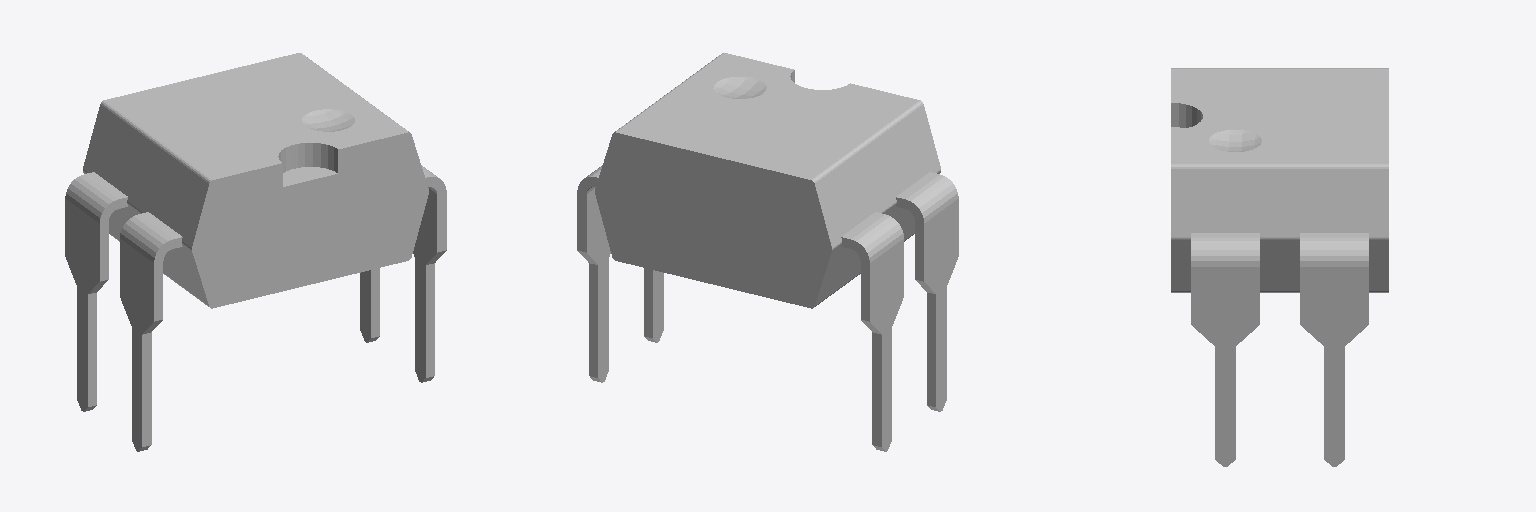
3 renders of one model, left to right at view 1: azimuth 30°, elevation 25°; view 2: azimuth 150°, elevation 25°; view 3: azimuth 270°, elevation 25°, orthographic.
Visible parts, largest first — view 1: Volumenkörper1; view 2: Volumenkörper1; view 3: Volumenkörper1.
Part boxes in pixels (x1,y1,x2,y2): Volumenkörper1: (65, 53, 446, 451); Volumenkörper1: (577, 53, 958, 451); Volumenkörper1: (1171, 68, 1388, 466).
Bounding box in the file's own units: 7.87 × 7.17 × 5.08.